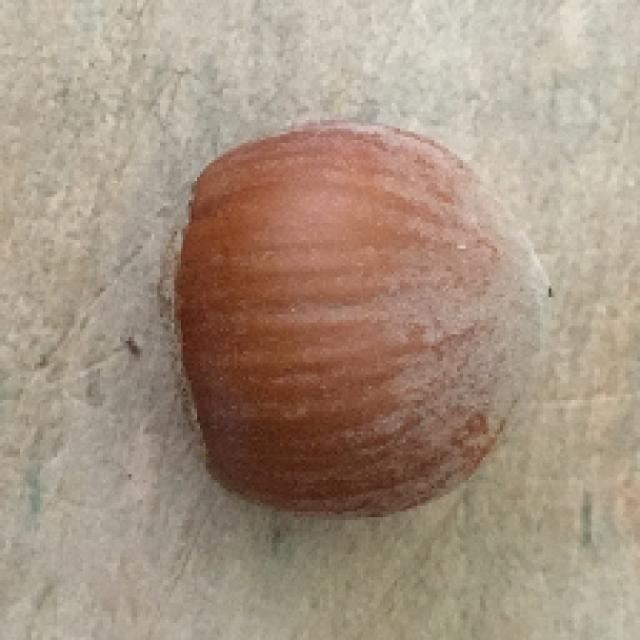qualityHazelnut: (145, 124, 567, 518)
